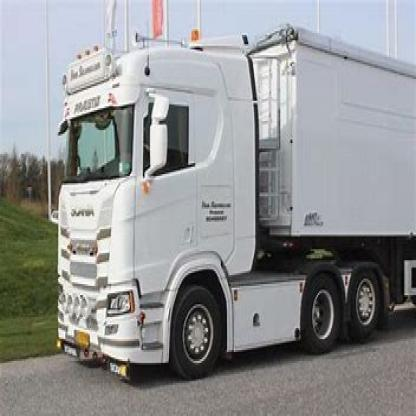dump_truck: (50, 13, 414, 376)
